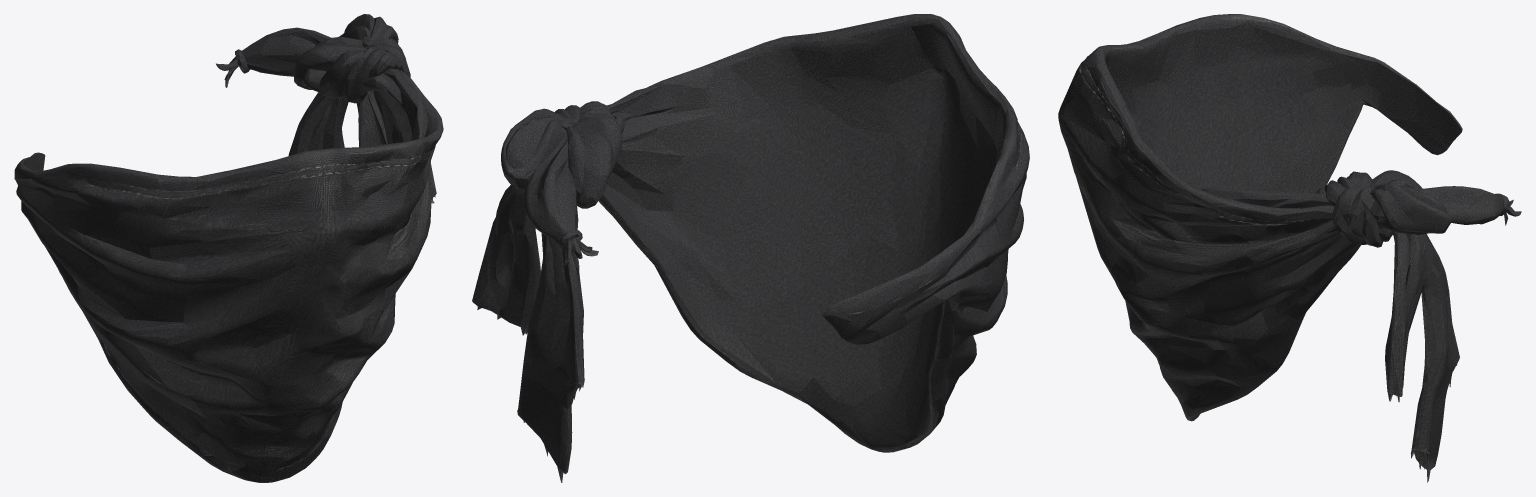
The model's file is acc_mask_cloth_image.glb.
3 views of the same model, side by side, from view 1: azimuth 30°, elevation 25°; view 2: azimuth 150°, elevation 25°; view 3: azimuth 270°, elevation 25° (orthographic). The views are drawn at different scales.
Bounding box in the file's own units: 1.9 × 1.52 × 1.77.
Materials: 1 (1 with a texture image).
